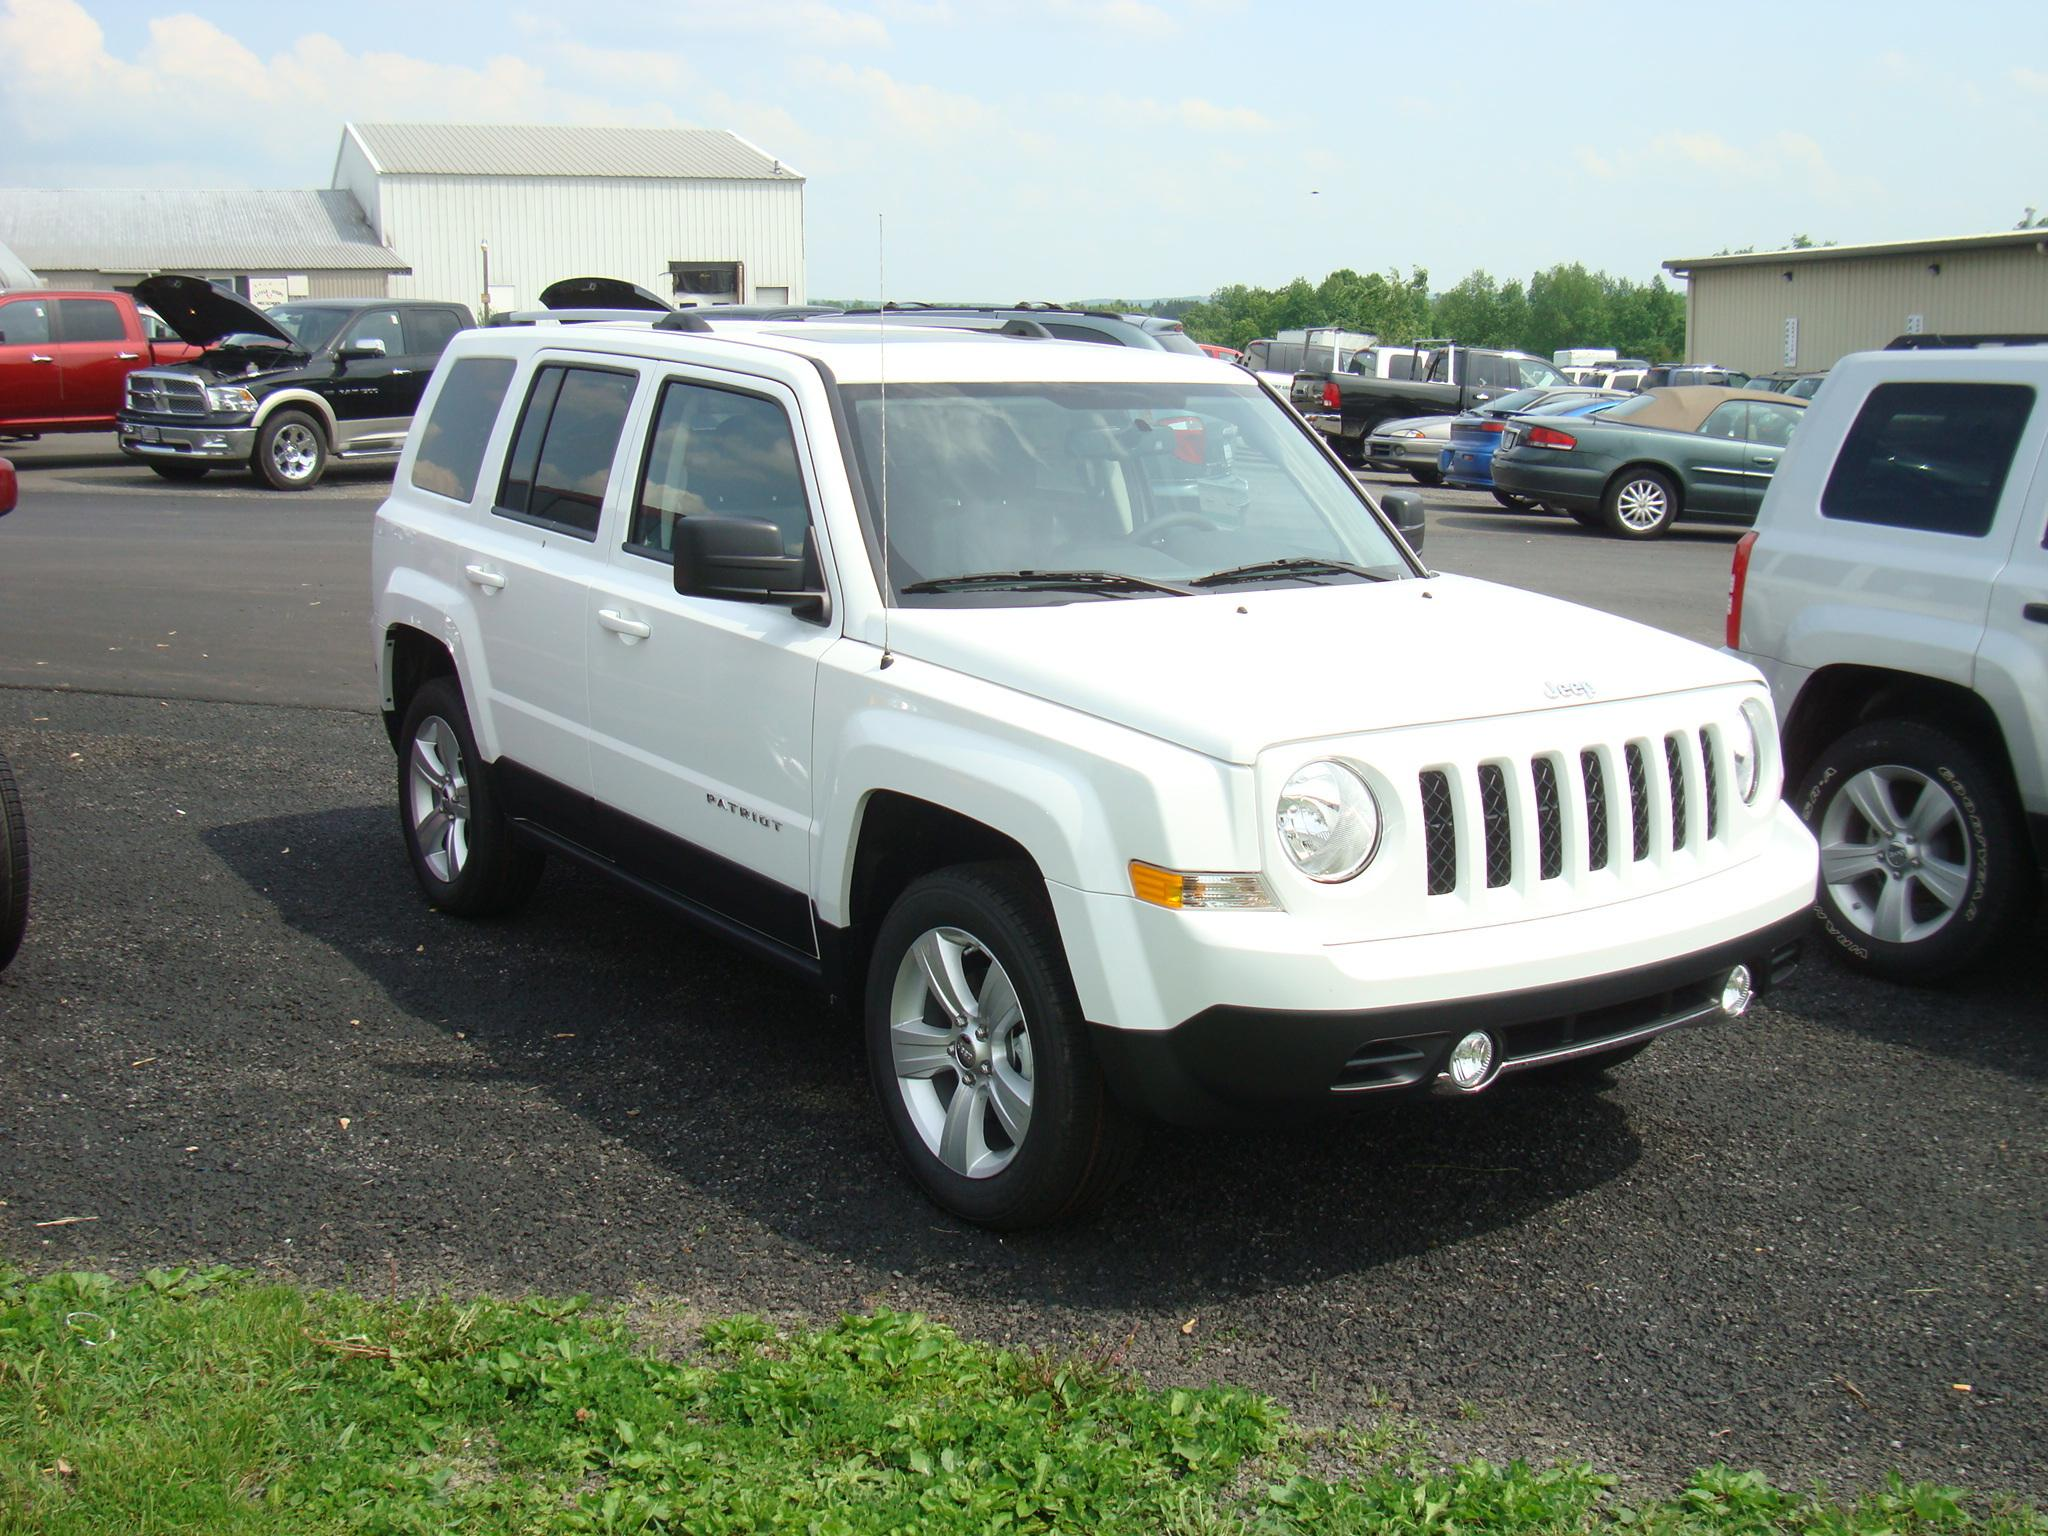jeep: (1514, 653, 1614, 718)
